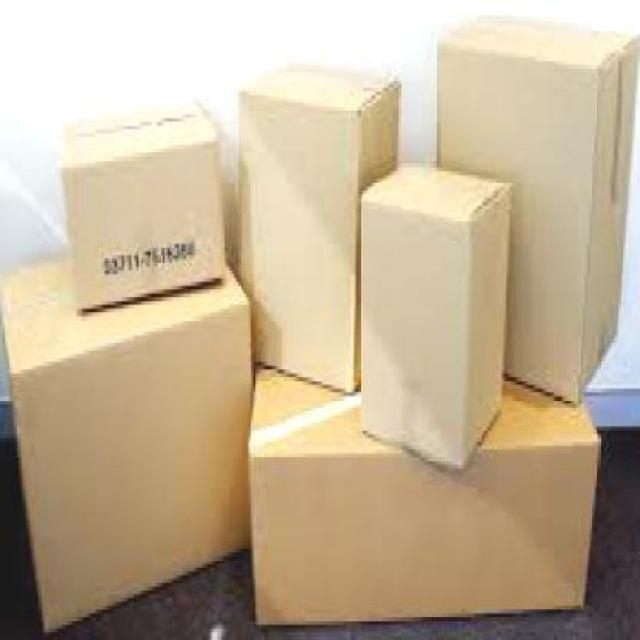box: (0, 255, 258, 632), (243, 373, 605, 636), (437, 12, 639, 412), (236, 53, 401, 409), (357, 148, 508, 488), (54, 98, 230, 320)
